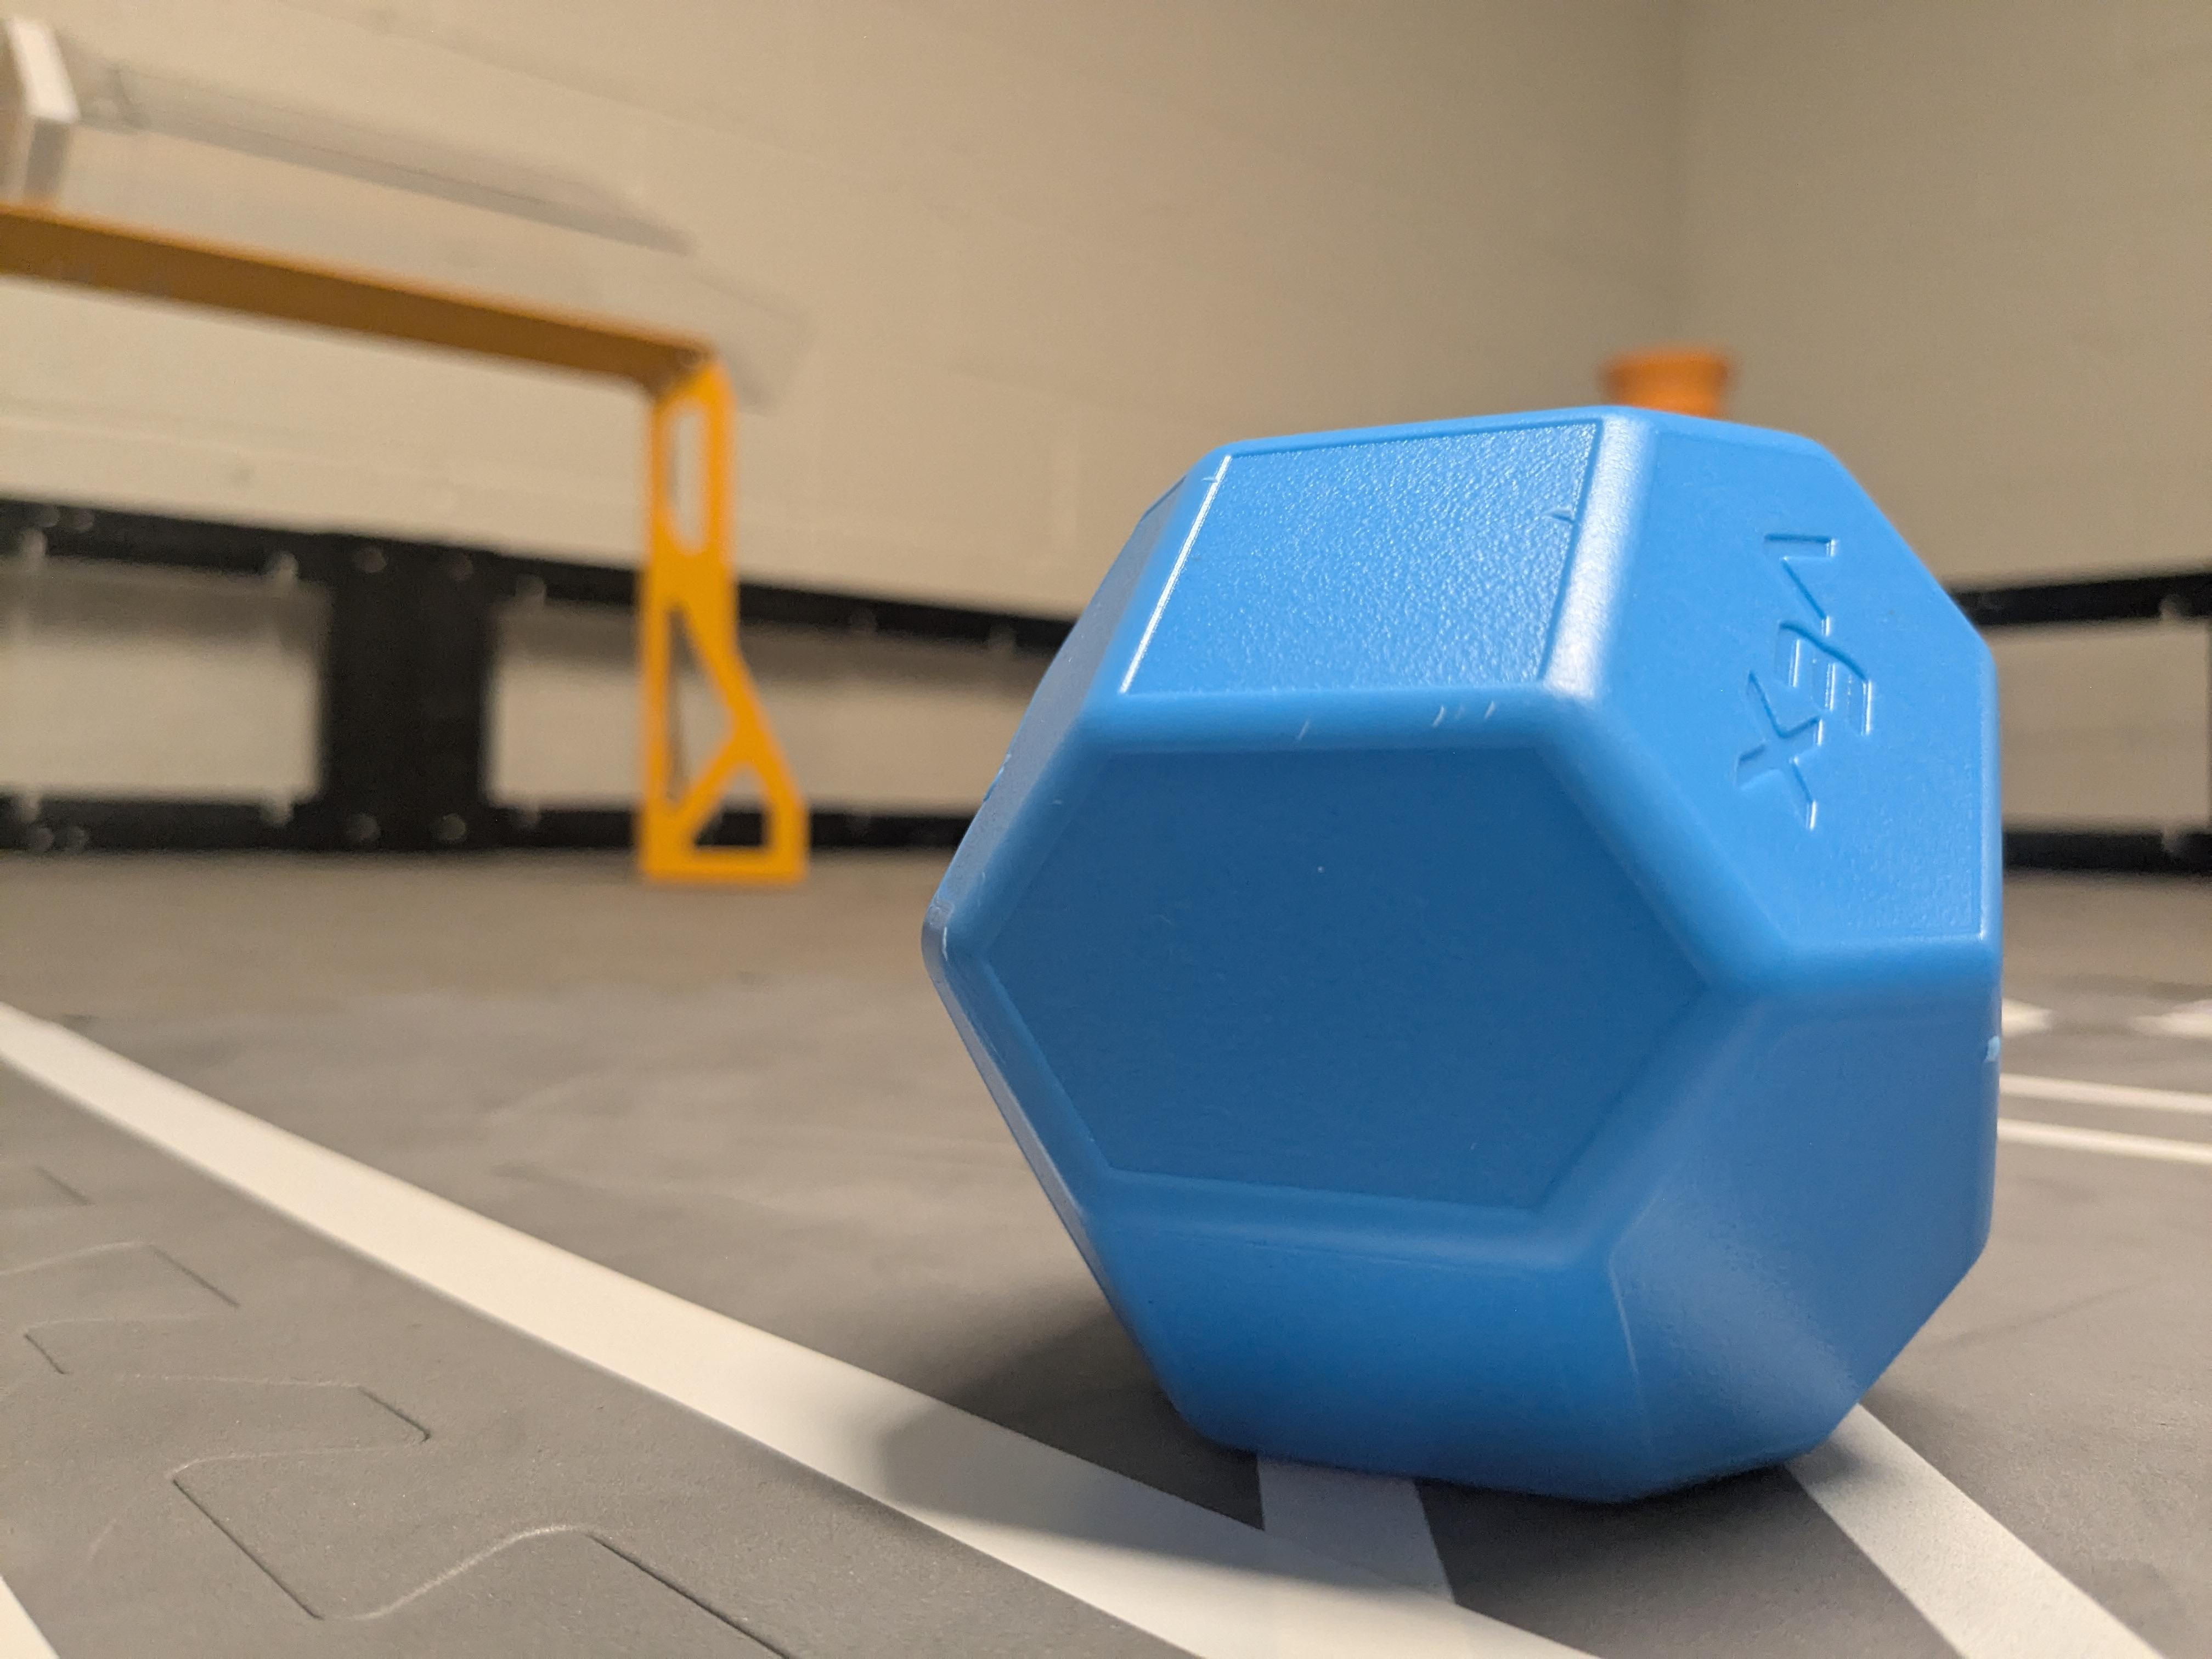Vex-Pieces-BLUE: (923, 406, 2001, 1499)
